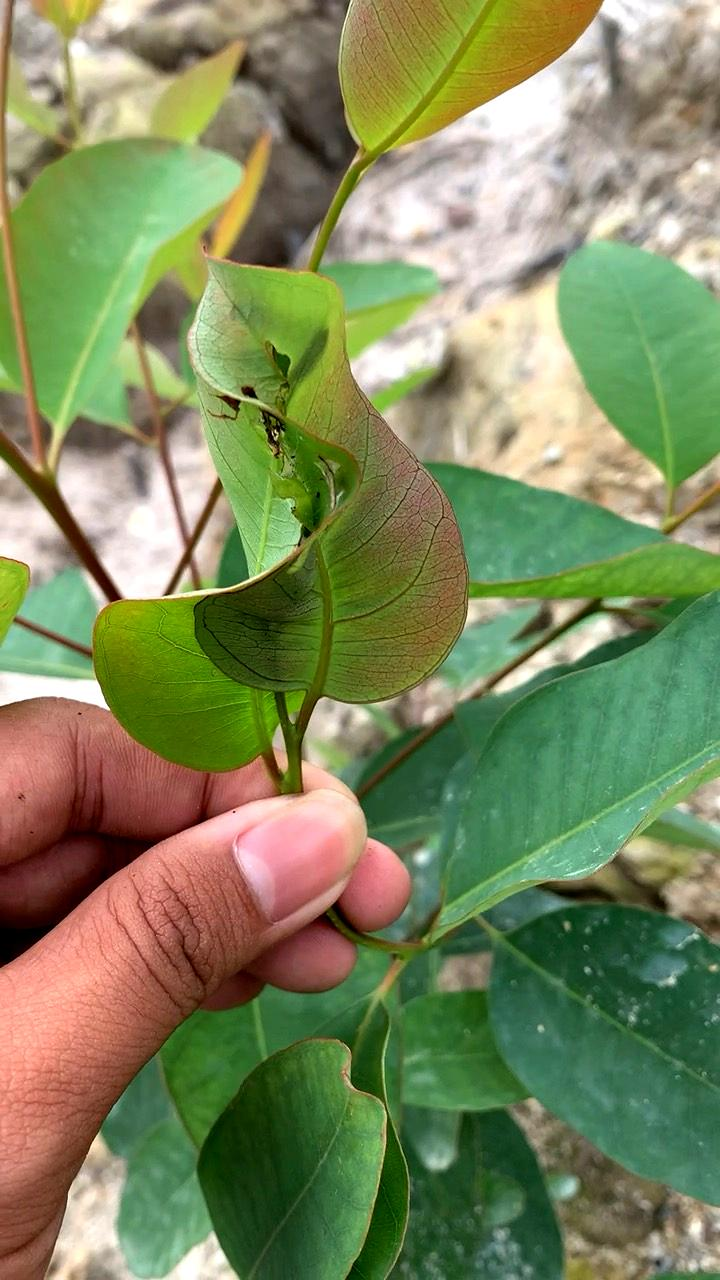Leaf Roller - Leaf: (59, 230, 498, 796)
